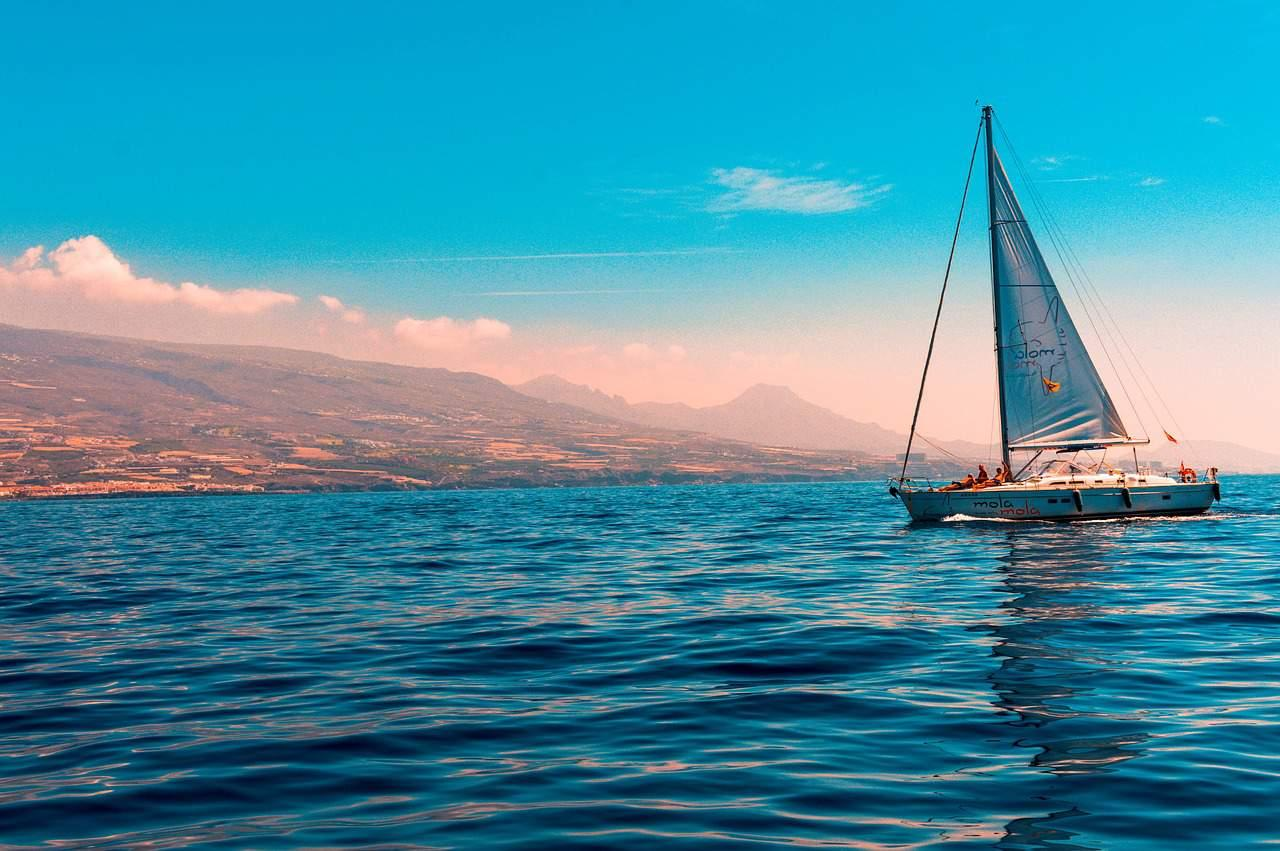Ship: (888, 104, 1222, 529)
